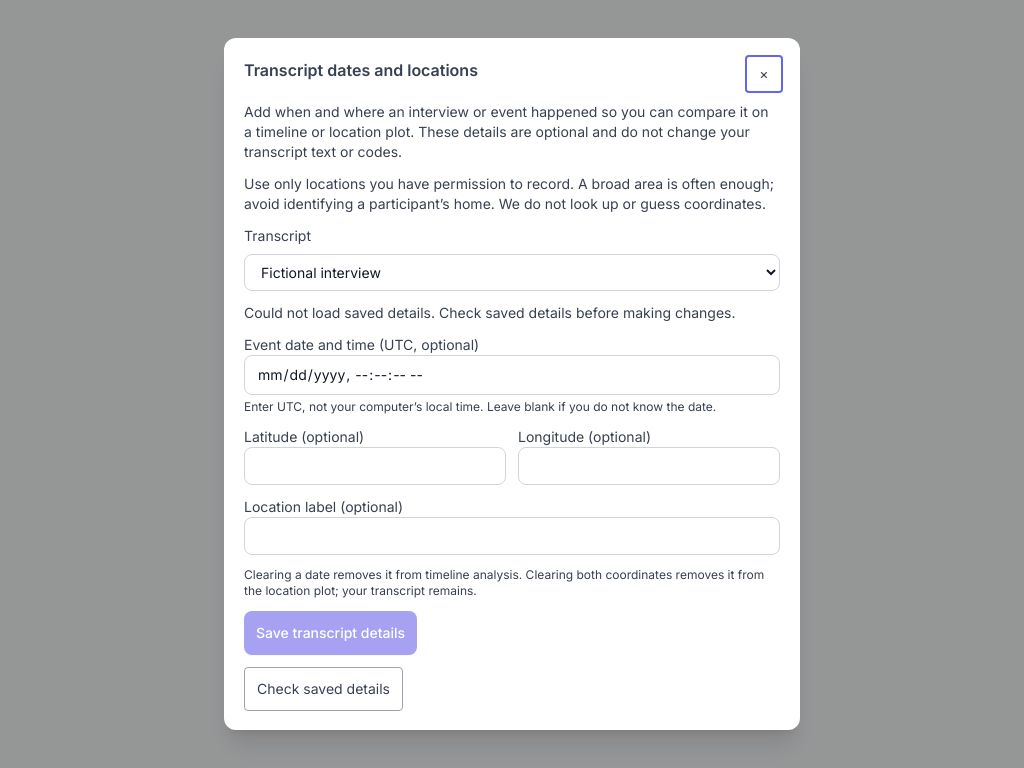
it: transcript metadata setup and uncertain-save recovery › loads saved values when recovering an initial read failure rather than presenting clearing defaults
The width and height of the screenshot is (1024, 768).
Expected: the message "Could not load saved details. Check saved details before making changes." is shown, [244, 303, 780, 323]
Expected: the button "Save transcript details" is disabled, [244, 611, 417, 655]
Click the button "Check saved details". click: point(324, 689)
box: [244, 667, 403, 711]
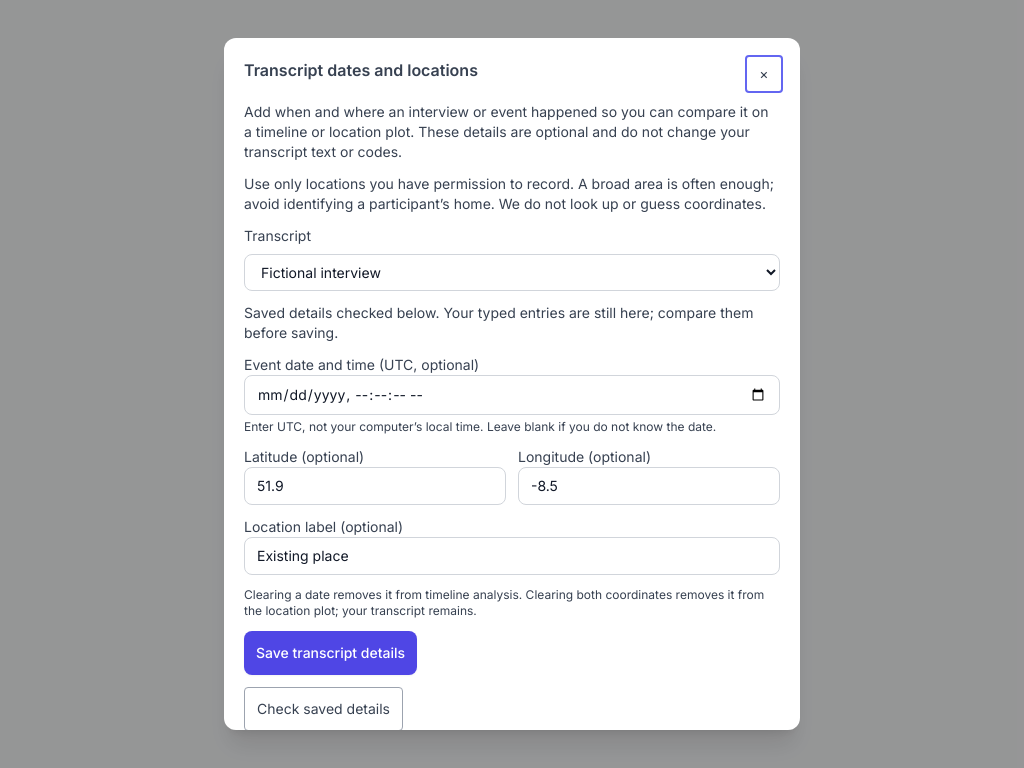
Now the field labelled "Latitude (optional)" holds "51.9", box [244, 467, 506, 505]
Now the field labelled "Location label (optional)" holds "Existing place", box [244, 537, 780, 575]
